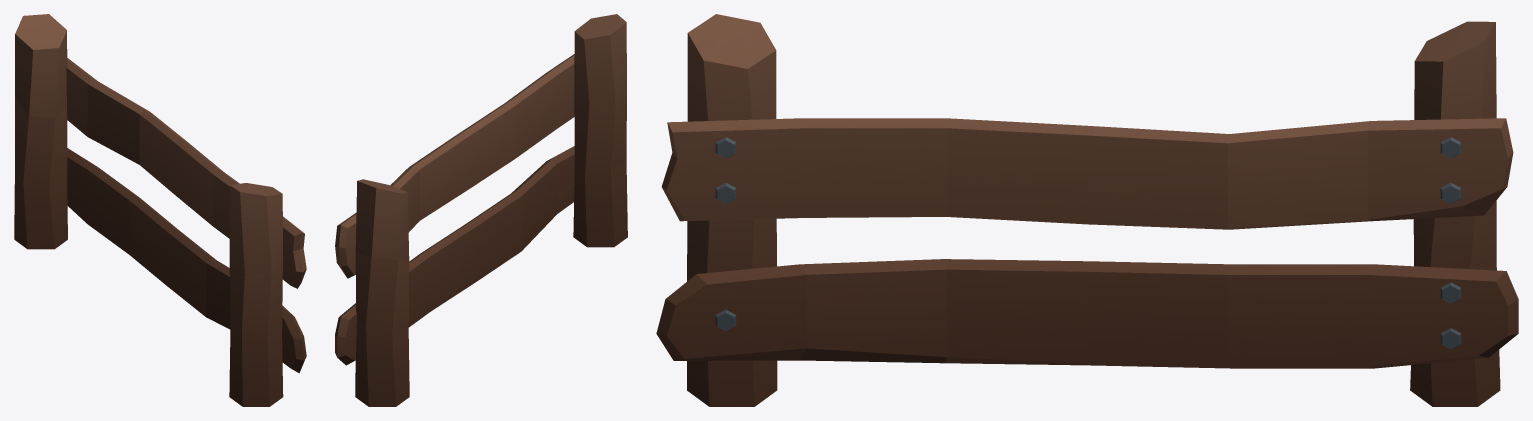
The model's file is płot1.fbx.
3 views of the same model, side by side, from view 1: azimuth 30°, elevation 25°; view 2: azimuth 150°, elevation 25°; view 3: azimuth 270°, elevation 25° (orthographic). The views are drawn at different scales.
Parts seen in each view (by area): view 1: slupy1, płot1; view 2: slupy1, płot1; view 3: płot1, slupy1, gwozdzie1.
Part boxes in pixels (x1,y1,x2,y2): slupy1: (14,14,283,406); płot1: (66,58,306,373); slupy1: (355,14,627,406); płot1: (335,54,574,365); płot1: (656,118,1518,368); slupy1: (687,14,1500,406); gwozdzie1: (715,137,1461,349).
Size of the model in its own units: 38.6 by 125 by 269.
